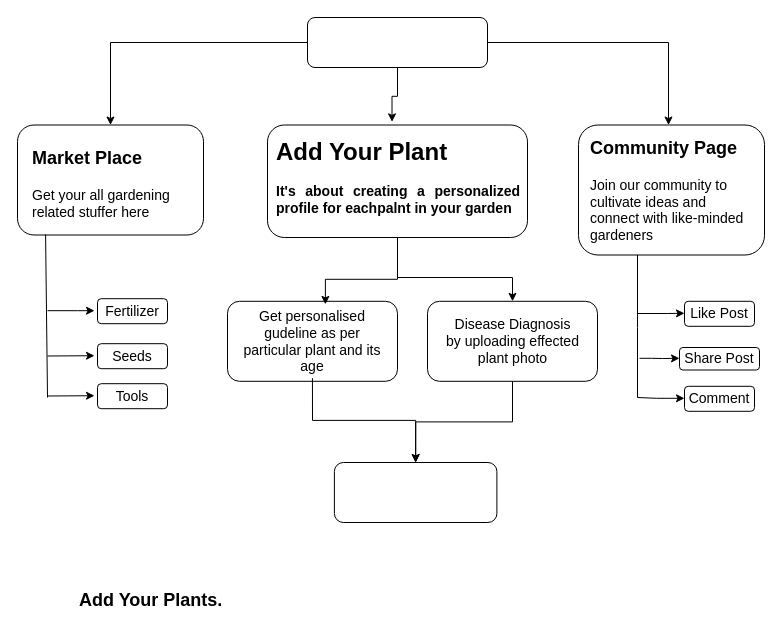
Some shapes in this 782 by 638 pixel diagram are drawn without their labels. Each missing label, with the centre of its shape:
"Know all fertilizers and other treatments" belongs at [415,492].
"Login/Sign-In" belongs at [397,42].
